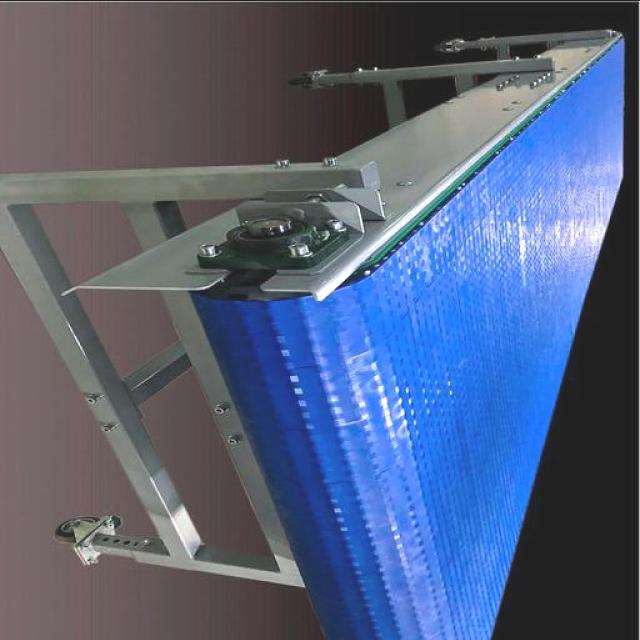conveyor: (191, 39, 621, 640)
